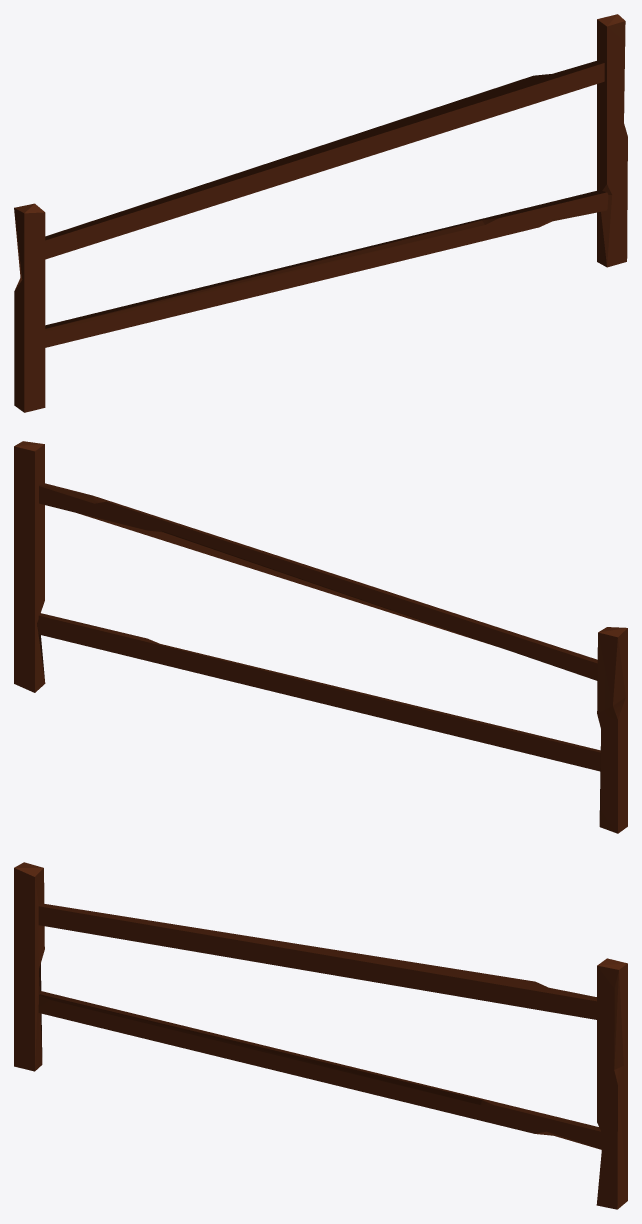
File: SM_fence_wooden_02.fbx
3 renders of one model, top to bottom at view 1: azimuth 30°, elevation 25°; view 2: azimuth 150°, elevation 25°; view 3: azimuth 330°, elevation 25°, orthographic.
Parts seen in each view (by area): view 1: Object114; view 2: Object114; view 3: Object114.
Part boxes in pixels (box(x1,y1,x2,y2)): Object114: box(14, 14, 627, 412); Object114: box(14, 441, 627, 833); Object114: box(14, 862, 627, 1209).
Size of the model in its own units: 90.07 by 2.98 by 34.51.
